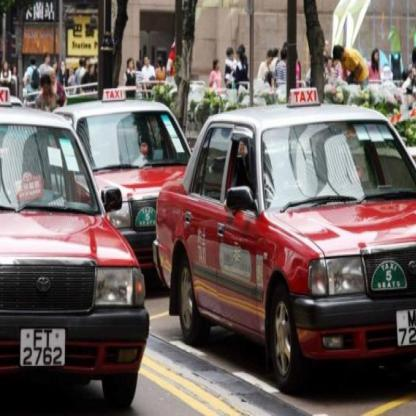taxi: (153, 85, 416, 395), (1, 87, 152, 414)
